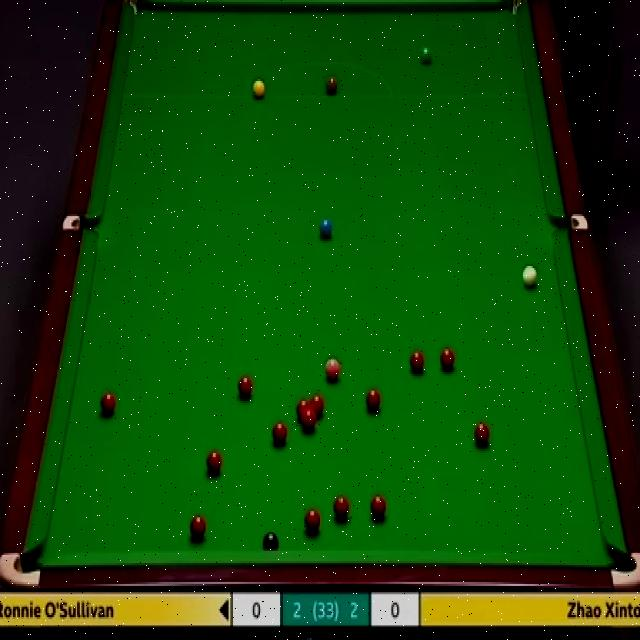black-ball: (262, 533, 279, 549)
blue-ball: (318, 217, 332, 239)
brown-ball: (324, 75, 338, 96)
green-ball: (421, 43, 432, 64)
pink-ball: (323, 352, 339, 377)
red-ball: (204, 449, 223, 475), (268, 417, 285, 445), (333, 495, 350, 523), (474, 419, 491, 447), (236, 373, 254, 399), (189, 513, 207, 539), (301, 407, 317, 436), (303, 507, 320, 534), (439, 346, 455, 372), (308, 393, 325, 417), (370, 495, 387, 518), (366, 387, 381, 411), (101, 390, 116, 414), (297, 399, 311, 423), (410, 351, 425, 372)
white-ball: (523, 266, 537, 290)
yellow-ball: (250, 79, 266, 100)
